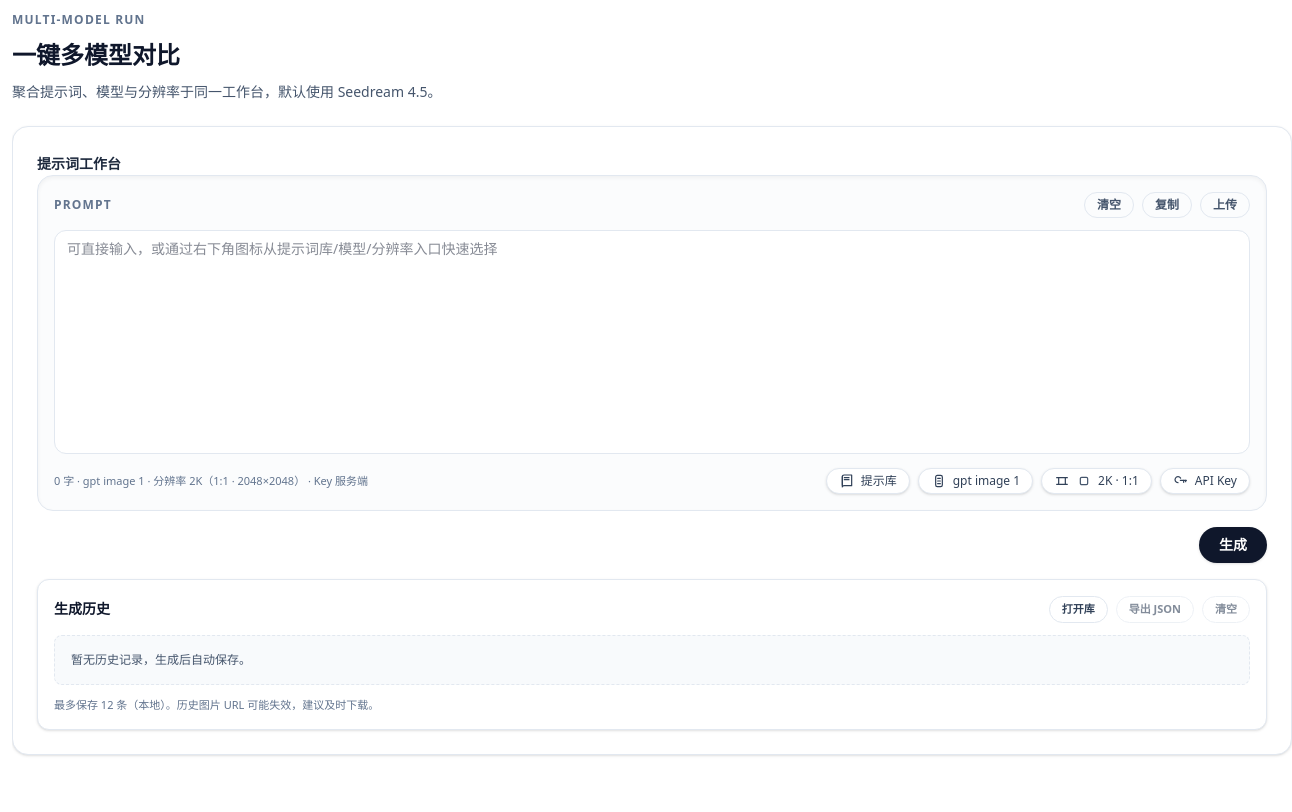
it: GenerateClient (MSW) › rejects non-seedream models
Type "hello" into the text box with placeholder "可直接输入，或通过右下角图标从提示词库/模型/分辨率入口快速选择".
click(652, 342); type("hello")  # box x1=54 y1=230 x2=1250 y2=454
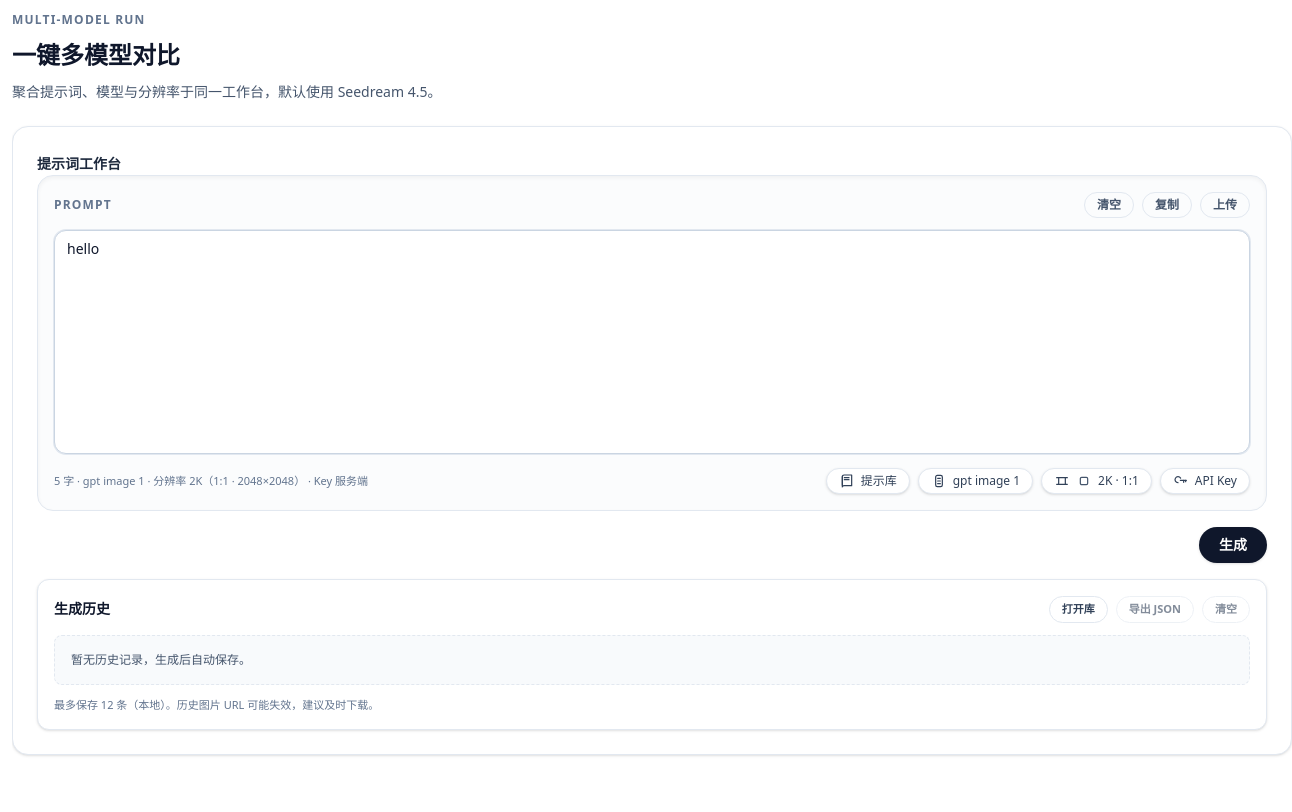
Click the button "生成".
click(1233, 545)  # box x1=1199 y1=527 x2=1267 y2=563
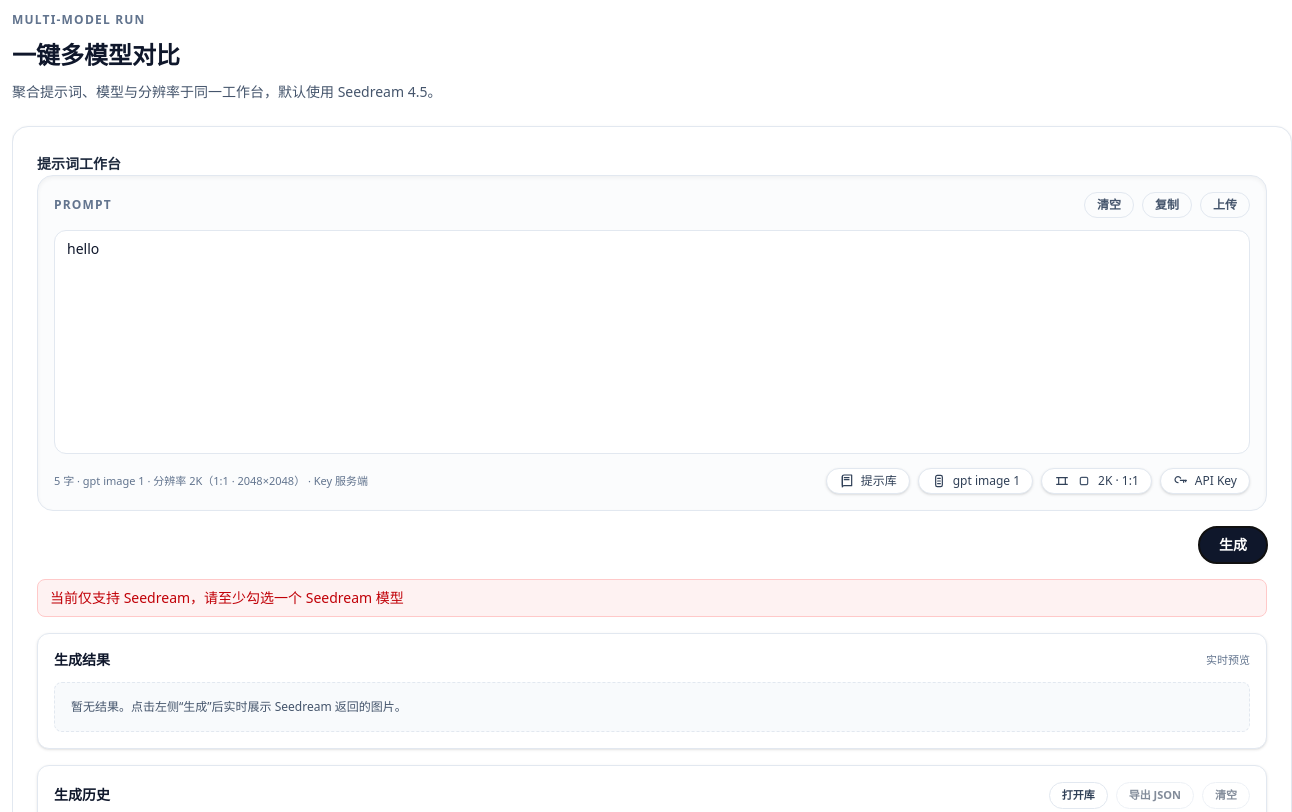
Result: the text "当前仅支持 Seedream，请至少勾选一个 Seedream 模型" is shown at x1=37 y1=579 x2=1267 y2=617
